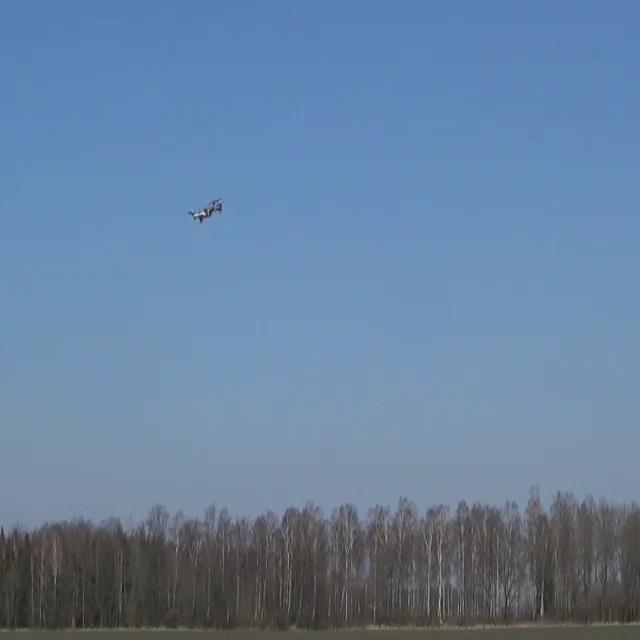drone: (187, 196, 223, 224)
